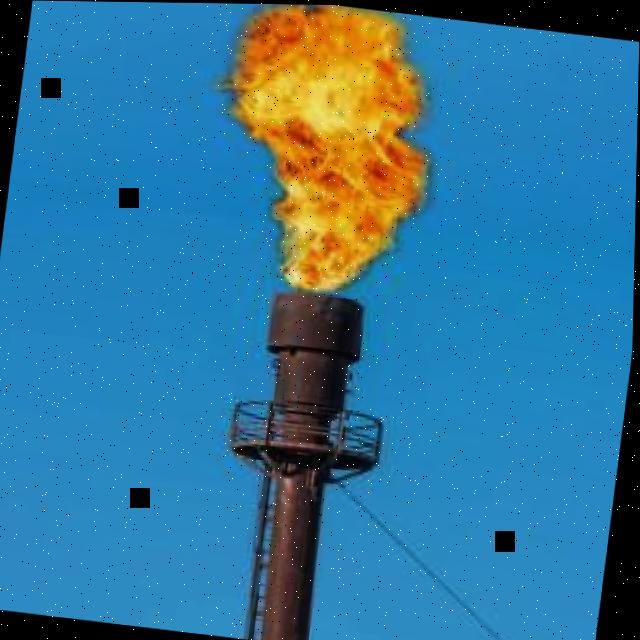fire: (219, 3, 437, 291)
